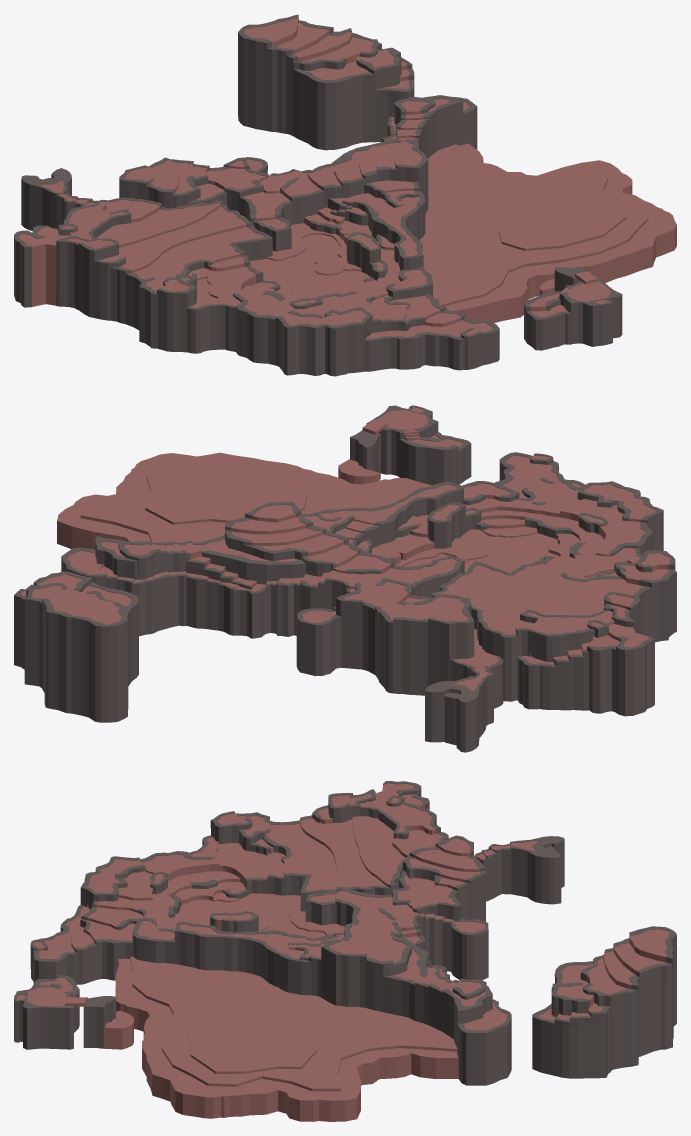
File: tiles_caelid.glb
3 views of the same model, one above another, from view 1: azimuth 30°, elevation 25°; view 2: azimuth 150°, elevation 25°; view 3: azimuth 270°, elevation 25° (orthographic). The views are drawn at different scales.
Parts seen in each view (by area): view 1: Plane.242, Plane.186, Plane.232, Plane.221, Plane.243, Plane.225, Plane.159, Plane.164, Plane.229, Plane.236, Plane.158, Plane.166 (+46 smaller); view 2: Plane.236, Plane.242, Plane.183, Plane.186, Plane.243, Plane.184, Plane.152, Plane.159, Plane.182, Plane.172, Plane.229, Plane.149 (+52 smaller); view 3: Plane.242, Plane.186, Plane.199, Plane.243, Plane.233, Plane.229, Plane.184, Plane.235, Plane.159, Plane.185, Plane.234, Plane.158 (+49 smaller).
Part boxes in pixels (x1,y1,x2,y2): Plane.242: (420,144,648,306); Plane.186: (445,143,676,322); Plane.232: (293,61,375,150); Plane.221: (275,307,372,376); Plane.243: (498,188,625,250); Plane.225: (365,318,499,371); Plane.159: (125,225,272,330); Plane.164: (187,265,263,353); Plane.229: (554,266,622,346); Plane.236: (238,14,298,130); Plane.158: (109,203,253,323); Plane.166: (250,234,370,298); Plane.236: (45,603,128,722); Plane.242: (80,461,416,542); Plane.183: (100,566,253,636); Plane.186: (57,452,431,549); Plane.243: (145,470,307,524); Plane.184: (425,665,493,752); Plane.152: (517,642,590,710); Plane.159: (463,561,653,637); Plane.182: (249,572,328,638); Plane.172: (393,597,471,695); Plane.229: (350,405,438,479); Plane.149: (608,624,654,716); Plane.242: (130,956,457,1091); Plane.186: (115,958,458,1121); Plane.199: (175,922,311,995); Plane.243: (188,1013,316,1073); Plane.233: (532,1003,611,1078); Plane.229: (14,984,115,1049); Plane.184: (475,836,564,904); Plane.235: (613,938,672,1056); Plane.159: (263,820,336,911); Plane.185: (457,1009,511,1085); Plane.234: (580,954,638,1070); Plane.158: (299,815,392,895).
Bounding box in the file's own units: 22.93 × 3.4 × 22.97.
